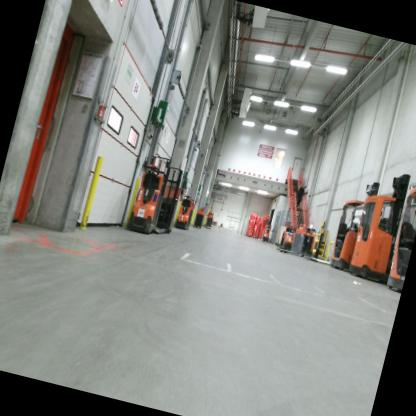forklift: (345, 160, 415, 289), (323, 170, 378, 273), (382, 168, 416, 293)
pallet: (245, 234, 252, 239), (252, 235, 258, 240)
pallet_truck: (118, 144, 191, 247), (287, 219, 323, 263), (172, 191, 198, 232), (273, 219, 299, 253), (190, 204, 208, 234), (200, 206, 219, 233), (257, 220, 275, 244)
